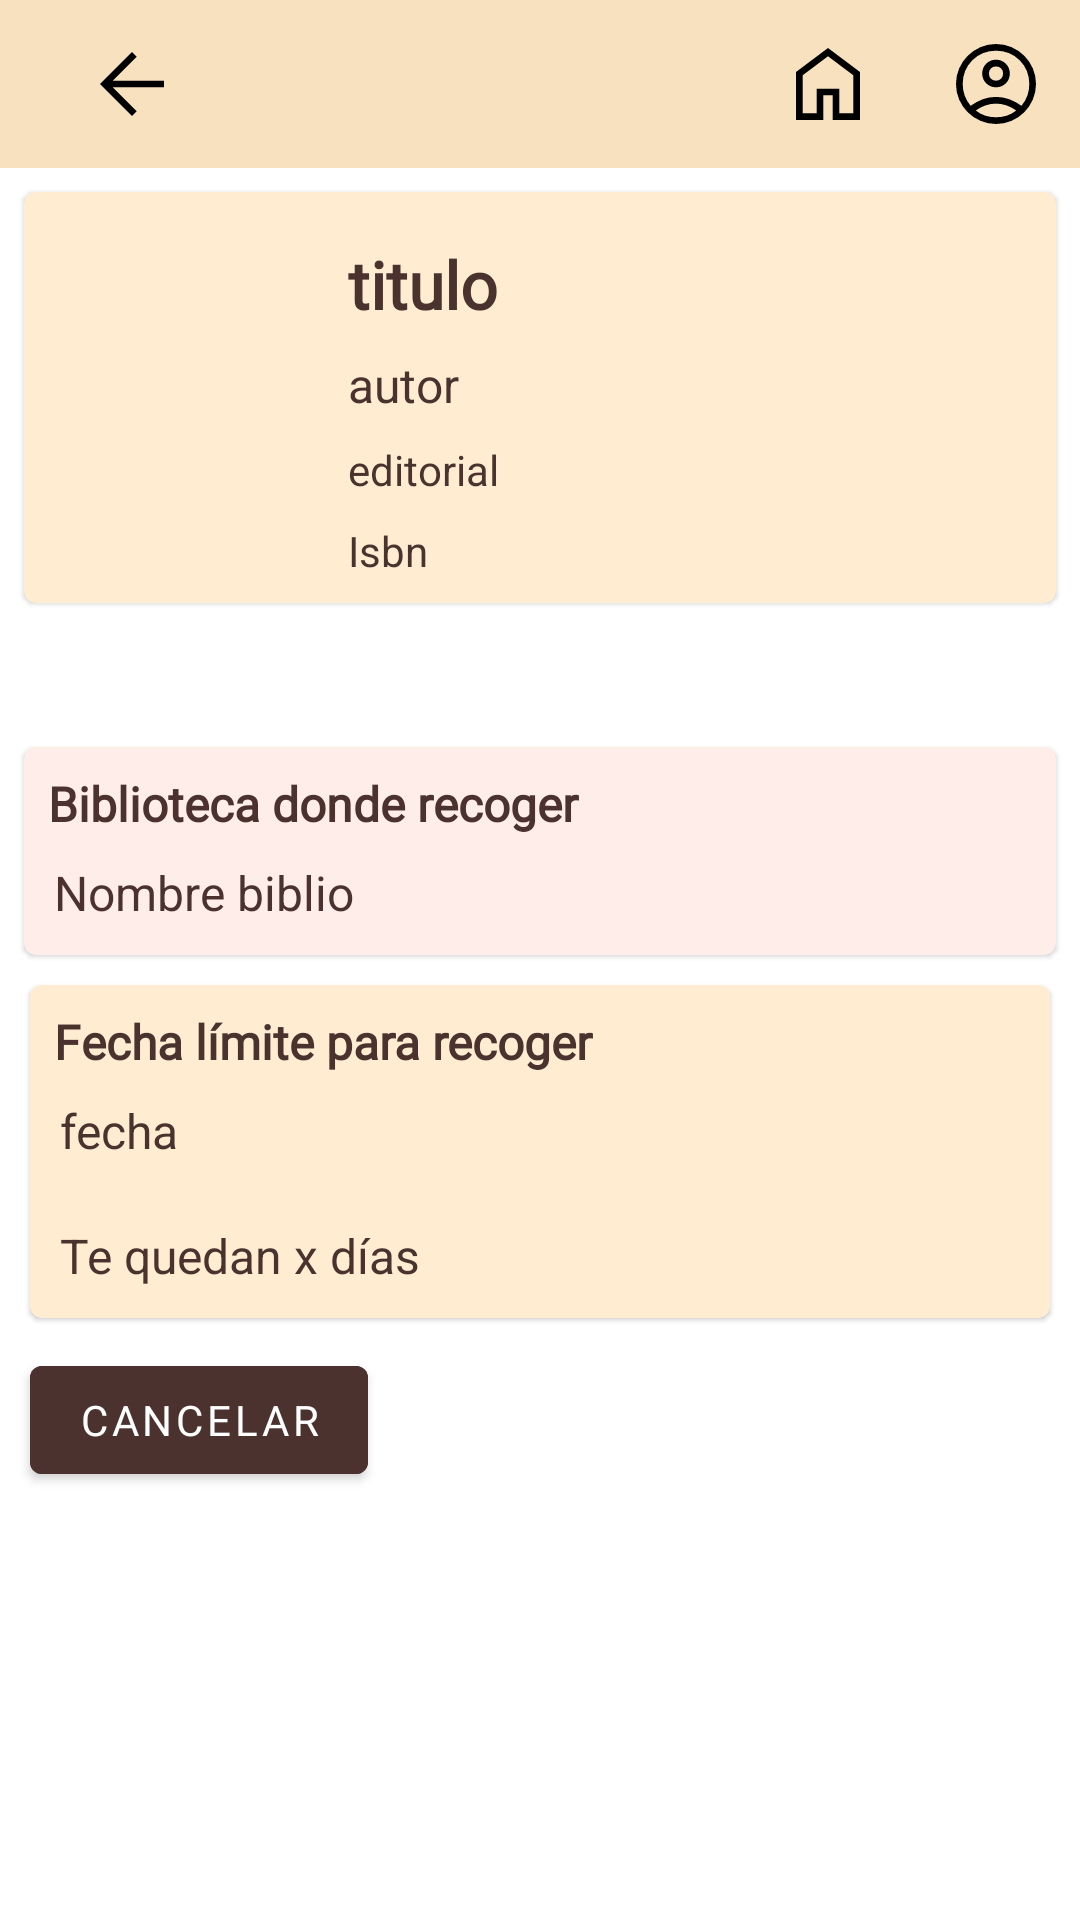

Named icons in this screenshot (1080*1920) and their bounding boxes, bbox(x1, y1, x2, y2):
back: bbox(100, 52, 164, 116)
